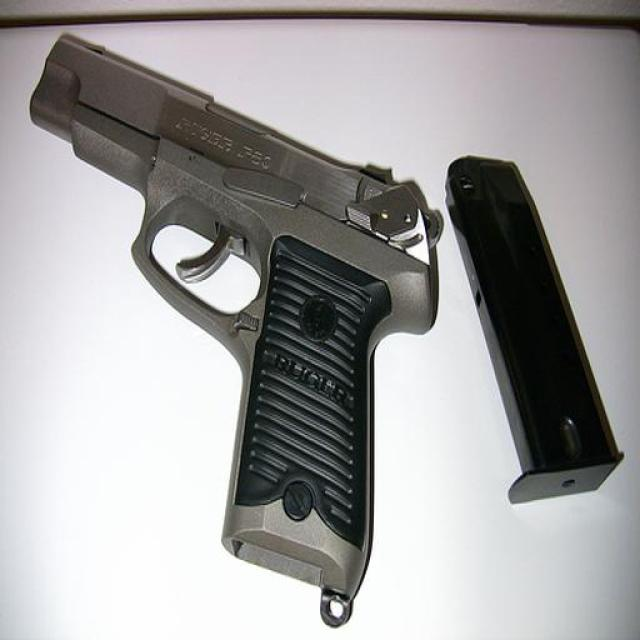pistol: (13, 31, 441, 593)
